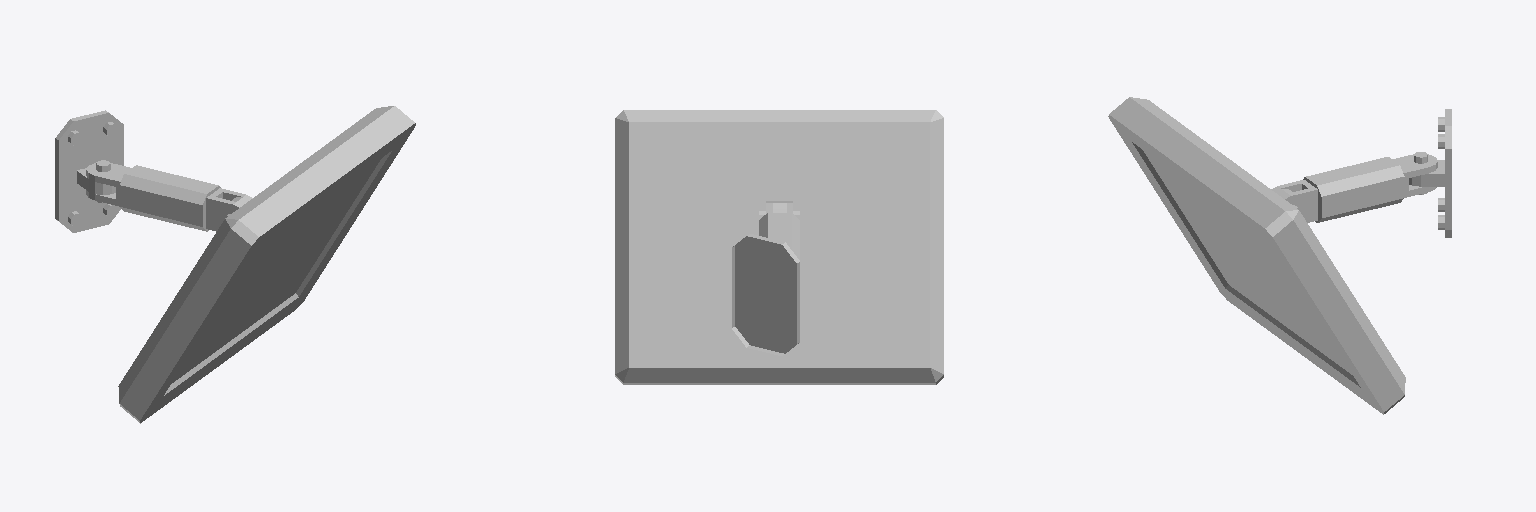
The model's file is monitoring_screen_mp_1_1.obj.
3 views of the same model, side by side, from view 1: azimuth 30°, elevation 25°; view 2: azimuth 150°, elevation 25°; view 3: azimuth 270°, elevation 25° (orthographic).
Parts seen in each view (by area): view 1: monitoring_screen_mp_1_1_display, monitoring_screen_mp_1_1_arm, monitoring_screen_mp_1_1; view 2: monitoring_screen_mp_1_1_display, monitoring_screen_mp_1_1, monitoring_screen_mp_1_1_arm; view 3: monitoring_screen_mp_1_1_display, monitoring_screen_mp_1_1_arm, monitoring_screen_mp_1_1.
Part boxes in pixels (x1,y1,x2,y2): monitoring_screen_mp_1_1_display: (118,106,415,423); monitoring_screen_mp_1_1_arm: (86,160,252,231); monitoring_screen_mp_1_1: (55,110,123,232); monitoring_screen_mp_1_1_display: (615,110,943,384); monitoring_screen_mp_1_1: (732,234,799,355); monitoring_screen_mp_1_1_arm: (759,201,799,259); monitoring_screen_mp_1_1_display: (1108,97,1405,414); monitoring_screen_mp_1_1_arm: (1271,152,1437,222); monitoring_screen_mp_1_1: (1409,109,1451,237).
Size of the model in its own units: 0.527 by 0.3664 by 0.5013.